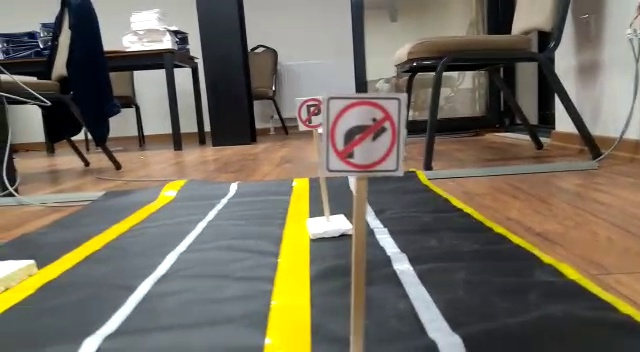park_yapilmaz: (296, 98, 326, 131)
saga_donulmez: (324, 97, 400, 174)
